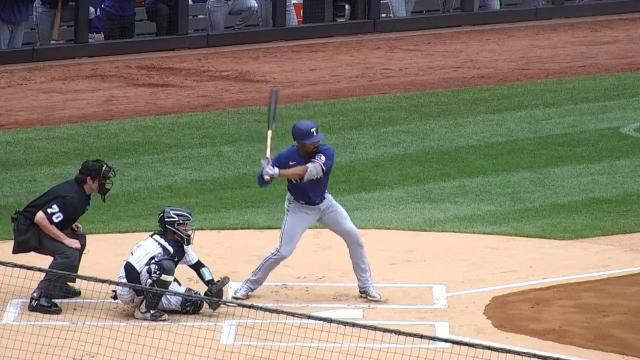bat: (262, 88, 278, 158)
